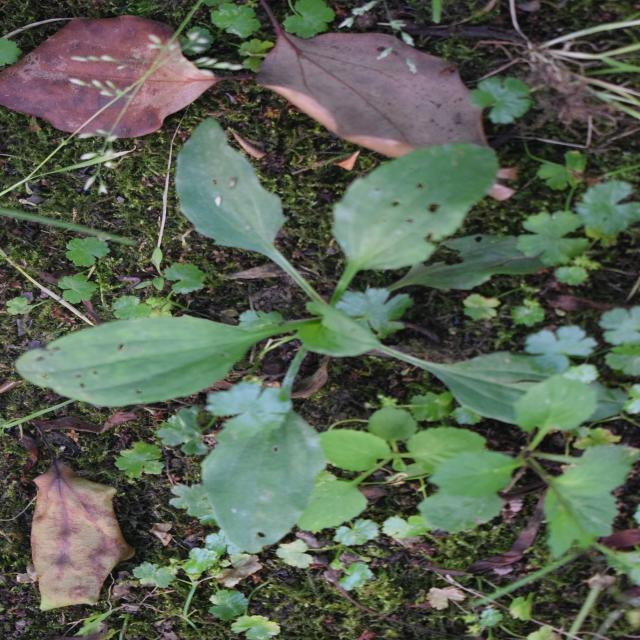plantain: (107, 35, 476, 513)
